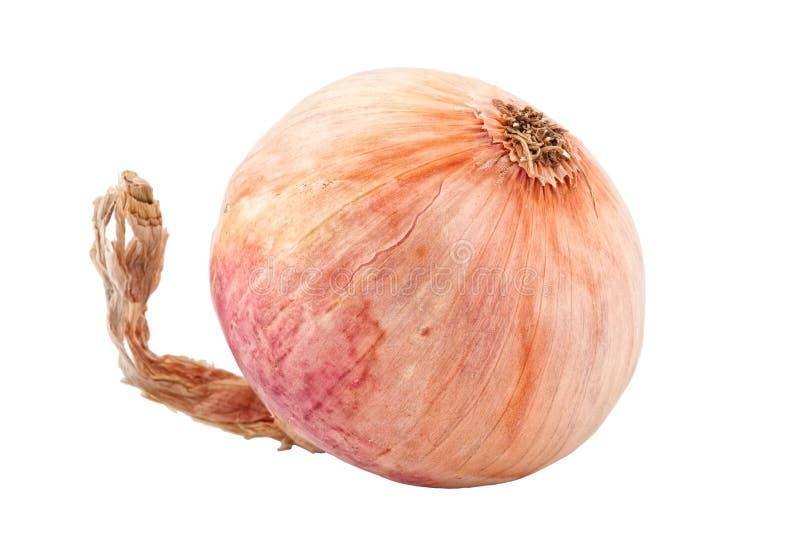Onion: (91, 69, 643, 486)
